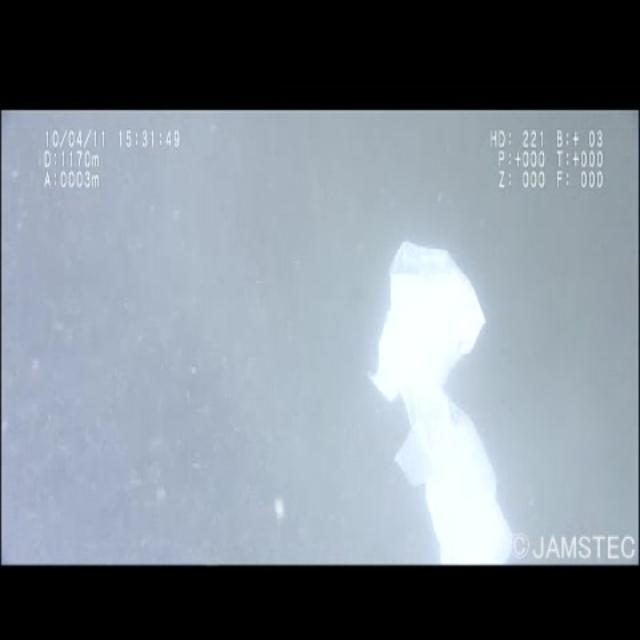Plastic: (356, 207, 530, 572)
